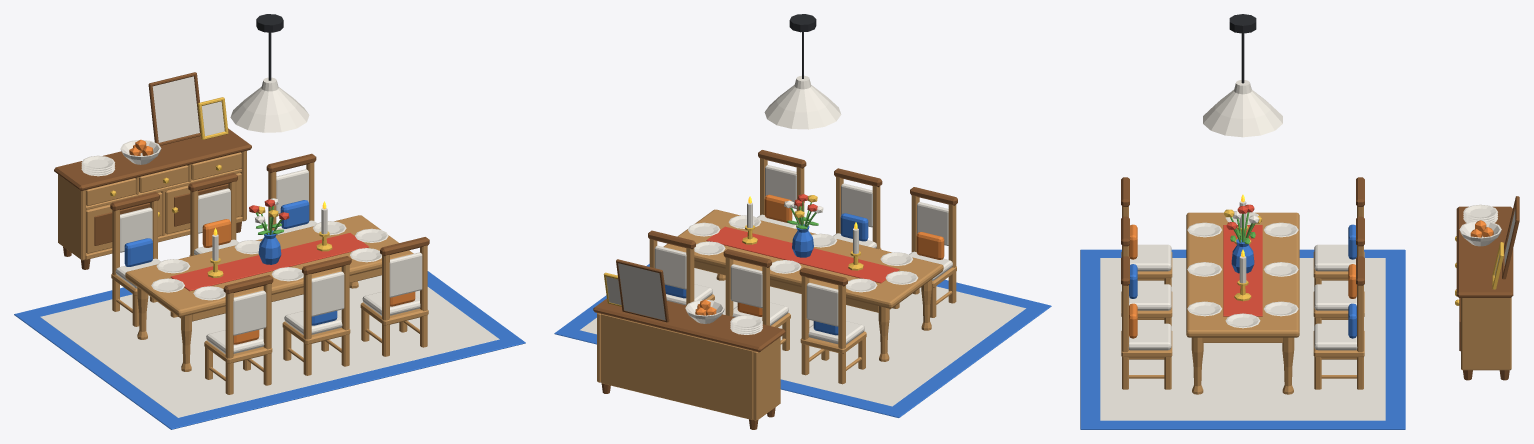
Rendered from cosy-dining-room-set.glb.
The picture shows the model from 3 angles, left to right: view 1: azimuth 30°, elevation 25°; view 2: azimuth 150°, elevation 25°; view 3: azimuth 270°, elevation 25°; orthographic projection. The views are drawn at different scales.
Visible parts, largest first — view 1: Rug, Table_Decor, DiningTable, Sideboard, Sideboard_Decor, Chair_2, Chair_1, Chair_3, PendantLamp, Chair_4, Chair_5, Chair_6 (+11 smaller); view 2: Rug, Sideboard, Table_Decor, DiningTable, Sideboard_Decor, Chair_4, PendantLamp, Chair_1, Chair_5, Chair_2, Chair_6, Chair_3 (+4 smaller); view 3: Rug, DiningTable, Sideboard, Table_Decor, PendantLamp, Sideboard_Decor, Chair_3, Chair_6, Chair_3_Seat, Chair_6_Seat, Chair_1_Seat, Chair_4_Seat (+6 smaller).
Boxes of the visible parts, x1=… form: Rug: x1=14, y1=271, x2=525, y2=429; Table_Decor: x1=151, y1=198, x2=388, y2=300; DiningTable: x1=125, y1=215, x2=413, y2=371; Sideboard: x1=54, y1=128, x2=251, y2=269; Sideboard_Decor: x1=81, y1=72, x2=228, y2=176; Chair_2: x1=282, y1=256, x2=351, y2=375; Chair_1: x1=204, y1=275, x2=273, y2=394; Chair_3: x1=360, y1=237, x2=429, y2=356; PendantLamp: x1=230, y1=14, x2=309, y2=132; Chair_4: x1=110, y1=192, x2=177, y2=326; Chair_5: x1=188, y1=173, x2=237, y2=256; Chair_6: x1=266, y1=153, x2=316, y2=230; Rug: x1=554, y1=264, x2=1051, y2=417; Sideboard: x1=593, y1=298, x2=785, y2=429; Table_Decor: x1=687, y1=194, x2=918, y2=292; DiningTable: x1=663, y1=209, x2=943, y2=361; Sideboard_Decor: x1=603, y1=259, x2=762, y2=334; Chair_4: x1=799, y1=267, x2=866, y2=384; PendantLamp: x1=764, y1=14, x2=841, y2=129; Chair_1: x1=893, y1=187, x2=957, y2=317; Chair_5: x1=723, y1=249, x2=790, y2=350; Chair_2: x1=834, y1=168, x2=882, y2=249; Chair_6: x1=648, y1=230, x2=714, y2=305; Chair_3: x1=758, y1=150, x2=806, y2=224; Rug: x1=1080, y1=249, x2=1405, y2=429; DiningTable: x1=1186, y1=212, x2=1299, y2=394; Sideboard: x1=1456, y1=206, x2=1513, y2=380; Table_Decor: x1=1187, y1=194, x2=1298, y2=328; PendantLamp: x1=1203, y1=14, x2=1282, y2=137; Sideboard_Decor: x1=1459, y1=196, x2=1519, y2=289; Chair_3: x1=1121, y1=256, x2=1172, y2=389; Chair_6: x1=1313, y1=256, x2=1364, y2=389; Chair_3_Seat: x1=1128, y1=323, x2=1171, y2=350; Chair_6_Seat: x1=1314, y1=323, x2=1357, y2=350; Chair_1_Seat: x1=1130, y1=244, x2=1171, y2=271; Chair_4_Seat: x1=1314, y1=244, x2=1355, y2=271.
Size of the model in its own units: 15 by 12.5 by 15.53.
